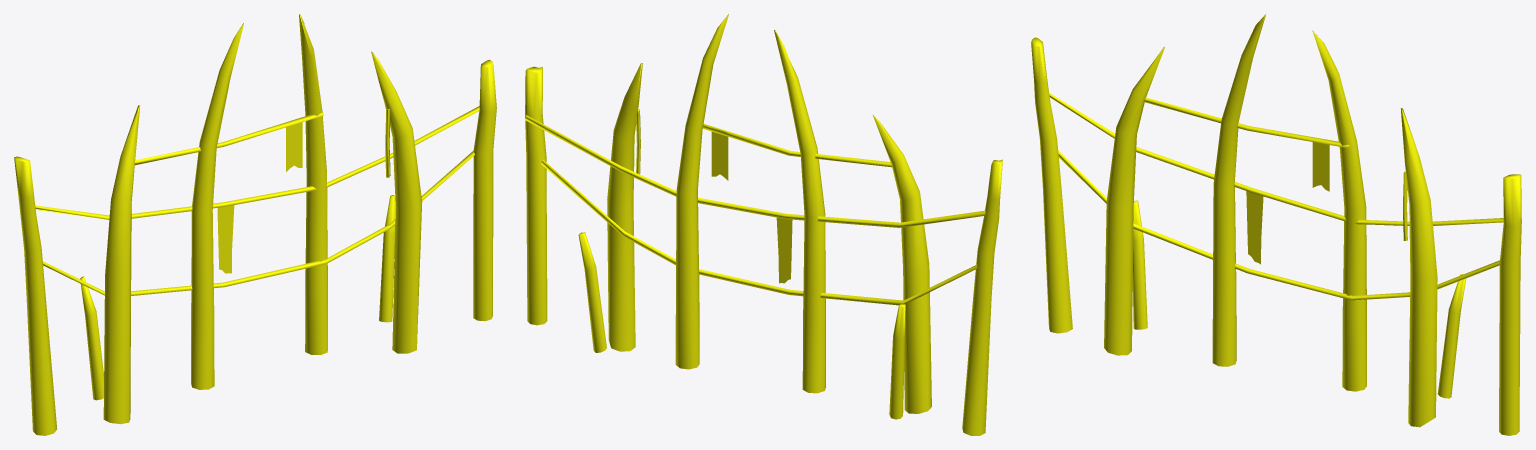
Rendered from camp_redthief_gate_01.glb.
The picture shows the model from 3 angles, left to right: view 1: azimuth 30°, elevation 25°; view 2: azimuth 150°, elevation 25°; view 3: azimuth 330°, elevation 25°; orthographic projection. The views are drawn at different scales.
Parts seen in each view (by area): view 1: camp_redthief_gate_01; view 2: camp_redthief_gate_01; view 3: camp_redthief_gate_01.
Boxes of the visible parts, bbox=[...] form: camp_redthief_gate_01: bbox=[14, 14, 496, 435]; camp_redthief_gate_01: bbox=[525, 14, 1002, 435]; camp_redthief_gate_01: bbox=[1031, 14, 1521, 435].
Size of the model in its own units: 13.96 by 10.05 by 2.03.
1 material, 1 textured.
